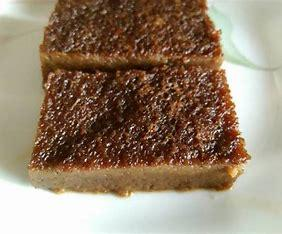Watalappam: (28, 5, 241, 197)
